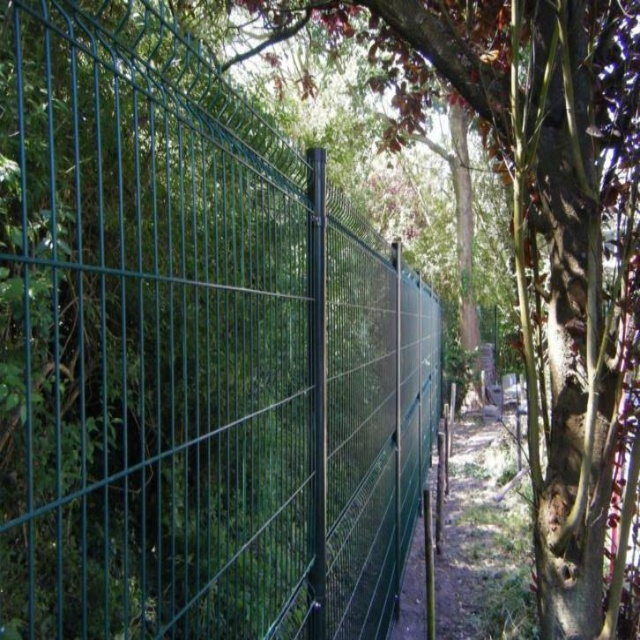obstacle: (3, 161, 640, 420)
